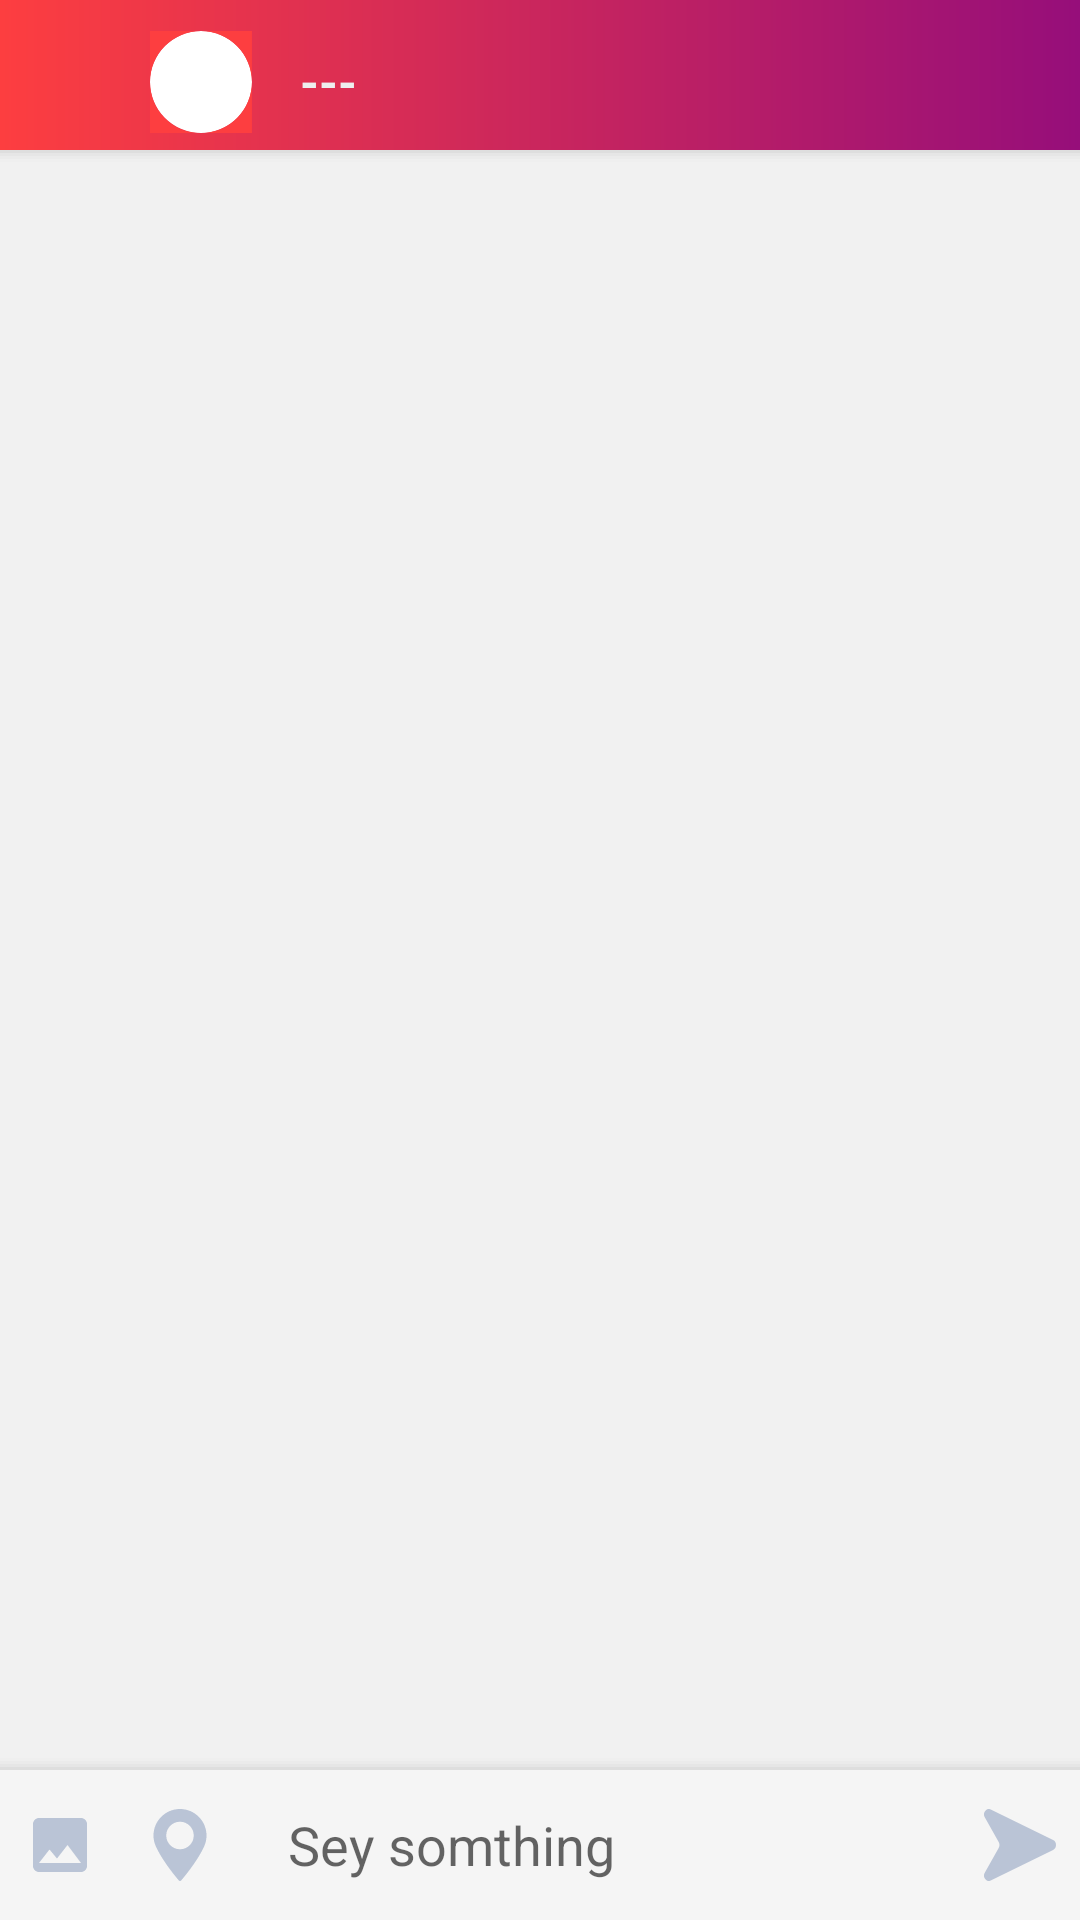

Named icons in this screenshot (1080px x 1920px) and their bounding boxes, (x1, y1, x2, y2):
place: (153, 1809, 207, 1881)
send: (984, 1809, 1056, 1881)
